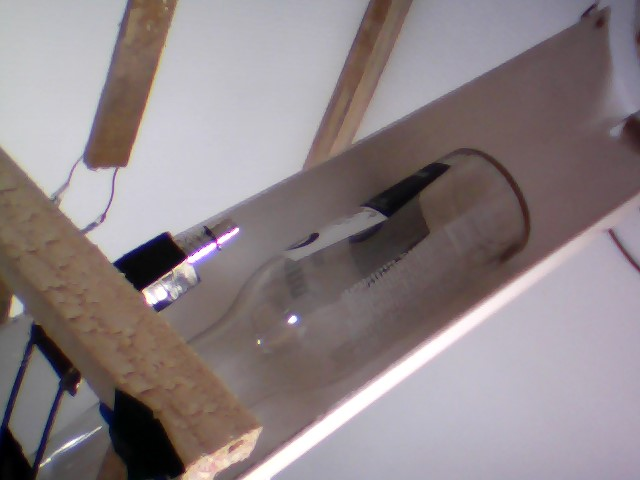vidrio: (180, 141, 543, 415)
